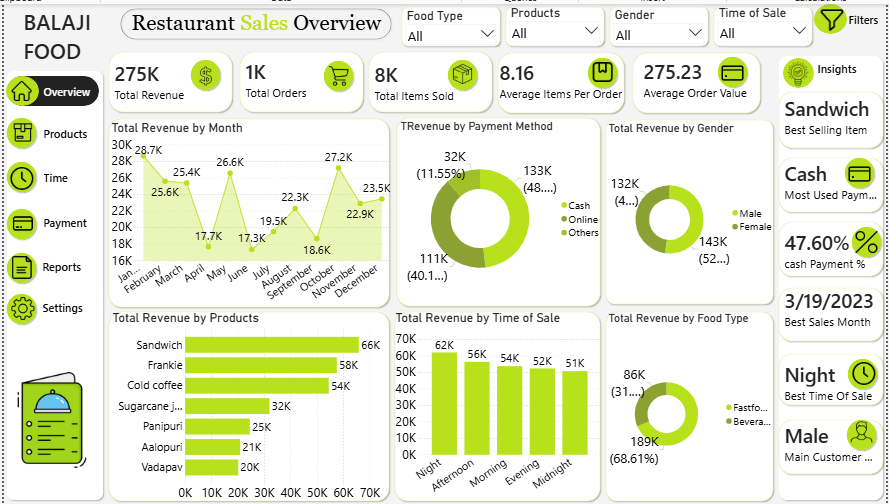

What the dashboard file says about the page in this screenshot:
{"tool":"powerbi","page":{"name":"Page 1","canvas":[3000,1700],"ordinal":0},"visuals":[{"type":"shape","box":[2624.8,166.6,374,1530],"z":0},{"type":"shape","box":[2624.8,289,374,210.8],"z":1000},{"type":"shape","box":[387.6,6.8,938.4,122.4],"z":2000},{"type":"shape","box":[0,217.6,346.8,1479],"z":3000},{"type":"shape","box":[0,527,119,122.4],"z":4000},{"type":"shape","box":[0,377.4,119,122.4],"z":5000},{"type":"shape","box":[10.2,244.8,312.8,102],"z":6000},{"type":"shape","box":[6.8,244.8,112.2,102],"z":7000},{"type":"image","box":[0,261.8,119,68],"z":8000},{"type":"textbox","box":[129.2,268.6,193.8,71.4],"z":9000},{"type":"image","box":[10.2,397.8,108.8,78.2],"z":10000},{"type":"textbox","box":[129.2,411.4,207.4,71.4],"z":11000},{"type":"textbox","box":[129.2,561,197.2,64.6],"z":12000},{"type":"image","box":[10.2,863.6,108.8,78.2],"z":13000},{"type":"textbox","box":[129.2,714,197.2,64.6],"z":14000},{"type":"shape","box":[0,686.8,119,122.4],"z":15000},{"type":"image","box":[10.2,707.2,108.8,78.2],"z":16000},{"type":"textbox","box":[125.8,863.6,197.2,64.6],"z":17000},{"type":"shape","box":[0,836.4,119,122.4],"z":18000},{"type":"image","box":[6.8,554.2,108.8,78.2],"z":19000},{"type":"image","box":[6.8,856.8,108.8,78.2],"z":20000},{"type":"textbox","box":[125.8,1003,197.2,64.6],"z":21000},{"type":"shape","box":[0,975.8,119,122.4],"z":22000},{"type":"image","box":[10.2,996.2,108.8,78.2],"z":23000},{"type":"textbox","box":[428.4,0,897.6,129.2],"z":24000},{"type":"textbox","box":[61.2,6.8,261.8,210.8],"z":25000},{"type":"shape","box":[346.8,153,438.6,224.4],"z":26000},{"type":"shape","box":[792.2,153,438.6,224.4],"z":27000},{"type":"shape","box":[1230.8,153,438.6,224.4],"z":28000},{"type":"shape","box":[1669.4,156.4,448.8,224.4],"z":29000},{"type":"shape","box":[1343,0,353.6,153],"z":30000},{"type":"shape","box":[1696.6,0,353.6,153],"z":31000},{"type":"shape","box":[2050.2,0,353.6,153],"z":32000},{"type":"shape","box":[2403.8,0,353.6,153],"z":33000},{"type":"shape","box":[2128.4,156.4,452.2,224.4],"z":34000},{"type":"cardVisual","fields":{"Data":["Balaji Fast Food Sales.Total Revenue"]},"box":[346.8,173.4,374,173.4],"z":35000},{"type":"cardVisual","fields":{"Data":["Balaji Fast Food Sales.Total Orders"]},"box":[792.2,166.6,374,173.4],"z":36000},{"type":"cardVisual","fields":{"Data":["Balaji Fast Food Sales.Total Items Sold"]},"box":[1230.8,176.8,431.8,173.4],"z":37000},{"type":"cardVisual","fields":{"Data":["Balaji Fast Food Sales.Average Order Value"]},"box":[2145.4,166.6,421.6,173.4],"z":38000},{"type":"slicer","fields":{"Values":["Balaji Fast Food Sales.Food Type"]},"box":[1356.6,10.2,326.4,142.8],"z":39000},{"type":"slicer","fields":{"Values":["Balaji Fast Food Sales.Gender"]},"box":[2063.8,6.8,326.4,142.8],"z":40000},{"type":"slicer","fields":{"Values":["Balaji Fast Food Sales.Products"]},"box":[1710.2,0,326.4,142.8],"z":41000},{"type":"slicer","fields":{"Values":["Balaji Fast Food Sales.Time of Sale"]},"box":[2417.4,0,326.4,142.8],"z":42000},{"type":"shape","box":[346.8,380.8,972.4,659.6],"z":43000},{"type":"shape","box":[1326,377.4,710.6,659.6],"z":44000},{"type":"shape","box":[2036.6,384.2,588.2,646],"z":45000},{"type":"shape","box":[346.8,1037,972.4,663],"z":46000},{"type":"shape","box":[1319.2,1037,717.4,663],"z":47000},{"type":"shape","box":[2036.6,1037,588.2,663],"z":48000},{"type":"lineChart","fields":{"Y":["Balaji Fast Food Sales.Total Revenue"],"Category":["Balaji Fast Food Sales.Date.Variation.Date Hierarchy.Month"]},"box":[360.4,397.8,958.8,639.2],"z":49000},{"type":"barChart","fields":{"Category":["Balaji Fast Food Sales.Products"],"Y":["Balaji Fast Food Sales.Total Revenue"]},"box":[363.8,1043.8,955.4,656.2],"z":50000},{"type":"columnChart","fields":{"Category":["Balaji Fast Food Sales.Time of Sale"],"Y":["Balaji Fast Food Sales.Total Revenue"]},"box":[1326,1043.8,710.6,652.8],"z":51000},{"type":"donutChart","fields":{"Category":["Balaji Fast Food Sales.Gender"],"Y":["Balaji Fast Food Sales.Total Revenue"]},"box":[2050.2,397.8,574.6,625.6],"z":52000},{"type":"donutChart","fields":{"Category":["Balaji Fast Food Sales.Food Type"],"Y":["Balaji Fast Food Sales.Total Revenue"]},"box":[2050.2,1043.8,574.6,656.2],"z":53000},{"type":"donutChart","title":"TRevenue by Payment Method","fields":{"Category":["Balaji Fast Food Sales.Payment Method"],"Y":["Balaji Fast Food Sales.Total Revenue"]},"box":[1343,391,693.6,632.4],"z":54000},{"type":"textbox","box":[2760.8,190.4,207.4,85],"z":55000},{"type":"textbox","box":[2866.2,23.8,132.6,71.4],"z":56000},{"type":"shape","box":[2754,0,112.2,102],"z":57000},{"type":"shape","box":[2648.6,183.6,105.4,102],"z":58000},{"type":"image","box":[2645.2,187,108.8,98.6],"z":60000},{"type":"cardVisual","fields":{"Data":["Balaji Fast Food Sales.Average Items Per Order"]},"box":[1655.8,170,476,173.4],"z":61000},{"type":"shape","box":[2624.8,513.4,374,204],"z":62000},{"type":"shape","box":[2624.8,731,374,204],"z":63000},{"type":"shape","box":[2624.8,955.4,374,200.6],"z":64000},{"type":"shape","box":[2624.8,1179.8,374,193.8],"z":65000},{"type":"shape","box":[2624.8,1404.2,374,204],"z":66000},{"type":"cardVisual","fields":{"Data":["Balaji Fast Food Sales.Best Selling Item"]},"box":[2624.8,292.4,374,173.4],"z":67000},{"type":"cardVisual","fields":{"Data":["Balaji Fast Food Sales.Most Used Payment"]},"box":[2624.8,513.4,374,173.4],"z":68000},{"type":"cardVisual","fields":{"Data":["Balaji Fast Food Sales.Main Customer Gender"]},"box":[2624.8,1404.2,374,173.4],"z":69000},{"type":"cardVisual","fields":{"Data":["Balaji Fast Food Sales.Best Time Of Sale"]},"box":[2624.8,1196.8,374,173.4],"z":70000},{"type":"cardVisual","fields":{"Data":["Balaji Fast Food Sales.Best Sales Month"]},"box":[2624.8,935,374,197.2],"z":71000},{"type":"cardVisual","fields":{"Data":["Balaji Fast Food Sales.cash Payment %"]},"box":[2624.8,748,374,173.4],"z":71001},{"type":"image","box":[2760.8,6.8,108.8,91.8],"z":71002},{"type":"shape","box":[625.6,180.2,119,122.4],"z":71003},{"type":"shape","box":[2417.4,170,119,122.4],"z":71004},{"type":"shape","box":[1975.4,173.4,119,122.4],"z":71005},{"type":"shape","box":[1499.4,180.2,119,122.4],"z":71006},{"type":"shape","box":[1077.8,183.6,119,122.4],"z":71007},{"type":"image","box":[625.6,210.8,119,68],"z":71008},{"type":"image","box":[1975.4,197.2,119,68],"z":71010},{"type":"image","box":[2417.4,197.2,119,74.8],"z":71011},{"type":"image","box":[1499.4,204,119,68],"z":71012},{"type":"image","box":[1077.8,210.8,119,68],"z":71013},{"type":"shape","box":[2849.2,513.4,119,122.4],"z":71014},{"type":"shape","box":[2873,748,119,122.4],"z":71015},{"type":"shape","box":[2859.4,1196.8,119,122.4],"z":71016},{"type":"shape","box":[2856,1404.2,119,122.4],"z":71017},{"type":"image","box":[2849.2,540.6,119,74.8],"z":71018},{"type":"image","box":[2873,771.8,119,74.8],"z":71019},{"type":"image","box":[2856,1417.8,119,74.8],"z":71020},{"type":"image","box":[2869.6,1217.2,108.8,78.2],"z":71021},{"type":"image","box":[0,1132.2,326.4,564.4],"z":71022}]}

Visuals, with their boxes in screenshot pixels (x1, y1, x2, y2):
shape: BBox(811, 63, 888, 503)
shape: BBox(811, 98, 888, 160)
shape: BBox(157, 16, 432, 52)
shape: BBox(44, 77, 145, 503)
shape: BBox(44, 168, 79, 204)
shape: BBox(44, 124, 79, 160)
shape: BBox(47, 85, 138, 115)
shape: BBox(46, 85, 79, 115)
image: BBox(44, 90, 79, 110)
textbox: BBox(82, 92, 138, 113)
image: BBox(47, 130, 79, 153)
textbox: BBox(82, 134, 142, 155)
textbox: BBox(82, 178, 139, 197)
image: BBox(47, 266, 79, 289)
textbox: BBox(82, 223, 139, 241)
shape: BBox(44, 215, 79, 250)
image: BBox(47, 221, 79, 243)
textbox: BBox(81, 266, 138, 285)
shape: BBox(44, 258, 79, 294)
image: BBox(46, 176, 78, 199)
image: BBox(46, 264, 78, 287)
textbox: BBox(81, 307, 138, 326)
shape: BBox(44, 299, 79, 335)
image: BBox(47, 305, 79, 328)
textbox: BBox(169, 14, 432, 52)
textbox: BBox(62, 16, 138, 77)
shape: BBox(145, 59, 274, 124)
shape: BBox(276, 59, 404, 124)
shape: BBox(404, 59, 532, 124)
shape: BBox(532, 60, 663, 125)
shape: BBox(436, 14, 540, 59)
shape: BBox(540, 14, 643, 59)
shape: BBox(643, 14, 746, 59)
shape: BBox(746, 14, 850, 59)
shape: BBox(666, 60, 798, 125)
cardVisual - Balaji Fast Food Sales.Total Revenue: BBox(145, 65, 255, 115)
cardVisual - Balaji Fast Food Sales.Total Orders: BBox(276, 63, 385, 113)
cardVisual - Balaji Fast Food Sales.Total Items Sold: BBox(404, 66, 530, 116)
cardVisual - Balaji Fast Food Sales.Average Order Value: BBox(671, 63, 794, 113)
slicer - Balaji Fast Food Sales.Food Type: BBox(440, 17, 536, 59)
slicer - Balaji Fast Food Sales.Gender: BBox(647, 16, 743, 58)
slicer - Balaji Fast Food Sales.Products: BBox(544, 14, 639, 56)
slicer - Balaji Fast Food Sales.Time of Sale: BBox(750, 14, 846, 56)
shape: BBox(145, 125, 430, 318)
shape: BBox(432, 124, 639, 317)
shape: BBox(639, 126, 811, 315)
shape: BBox(145, 317, 430, 503)
shape: BBox(430, 317, 639, 503)
shape: BBox(639, 317, 811, 503)
lineChart - Balaji Fast Food Sales.Total Revenue x Balaji Fast Food Sales.Date.Variation.Date Hierarchy.Month: BBox(149, 130, 430, 317)
barChart - Balaji Fast Food Sales.Products x Balaji Fast Food Sales.Total Revenue: BBox(150, 319, 430, 503)
columnChart - Balaji Fast Food Sales.Time of Sale x Balaji Fast Food Sales.Total Revenue: BBox(432, 319, 639, 503)
donutChart - Balaji Fast Food Sales.Gender x Balaji Fast Food Sales.Total Revenue: BBox(643, 130, 811, 313)
donutChart - Balaji Fast Food Sales.Food Type x Balaji Fast Food Sales.Total Revenue: BBox(643, 319, 811, 503)
"TRevenue by Payment Method" donutChart: BBox(436, 128, 639, 313)
textbox: BBox(851, 70, 888, 94)
textbox: BBox(882, 21, 888, 42)
shape: BBox(849, 14, 882, 44)
shape: BBox(818, 68, 849, 97)
image: BBox(817, 69, 849, 97)
cardVisual - Balaji Fast Food Sales.Average Items Per Order: BBox(528, 64, 667, 114)
shape: BBox(811, 164, 888, 224)
shape: BBox(811, 228, 888, 287)
shape: BBox(811, 293, 888, 352)
shape: BBox(811, 359, 888, 415)
shape: BBox(811, 424, 888, 484)
cardVisual - Balaji Fast Food Sales.Best Selling Item: BBox(811, 99, 888, 150)
cardVisual - Balaji Fast Food Sales.Most Used Payment: BBox(811, 164, 888, 215)
cardVisual - Balaji Fast Food Sales.Main Customer Gender: BBox(811, 424, 888, 475)
cardVisual - Balaji Fast Food Sales.Best Time Of Sale: BBox(811, 364, 888, 414)
cardVisual - Balaji Fast Food Sales.Best Sales Month: BBox(811, 287, 888, 345)
cardVisual - Balaji Fast Food Sales.cash Payment %: BBox(811, 232, 888, 283)
image: BBox(851, 16, 883, 43)
shape: BBox(227, 67, 262, 102)
shape: BBox(750, 64, 785, 99)
shape: BBox(621, 65, 656, 100)
shape: BBox(482, 67, 517, 102)
shape: BBox(359, 68, 394, 103)
image: BBox(227, 75, 262, 95)
image: BBox(621, 72, 656, 91)
image: BBox(750, 72, 785, 93)
image: BBox(482, 74, 517, 93)
image: BBox(359, 75, 394, 95)
shape: BBox(877, 164, 888, 200)
shape: BBox(884, 232, 888, 268)
shape: BBox(880, 364, 888, 399)
shape: BBox(879, 424, 888, 460)
image: BBox(877, 172, 888, 194)
image: BBox(884, 239, 888, 261)
image: BBox(879, 428, 888, 450)
image: BBox(883, 370, 888, 392)
image: BBox(44, 345, 139, 503)
